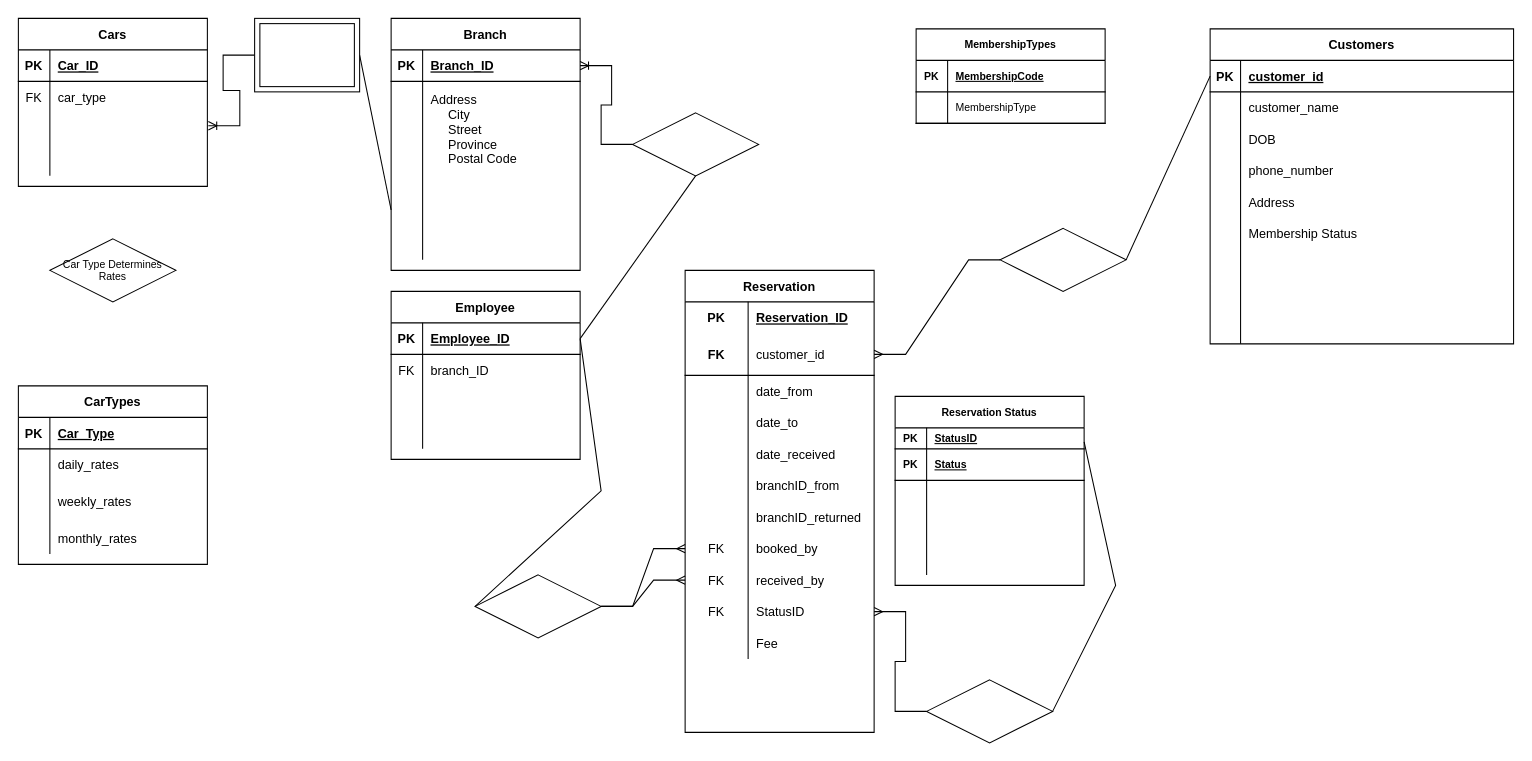
The diagram is 1532 pixels wide and 761 high, and some of its shapes have lost their labels. Here are the shapes that lost their labels. From the top down, the centre of each, then its label:
At (307,54): "Branch vehicle queue".
At (695,144): "Employees work at Branch".
At (1062,259): "Customer Makes Reservations".
At (537,606): "Booked By Employee".
At (989,711): "Status Lookup Table".
